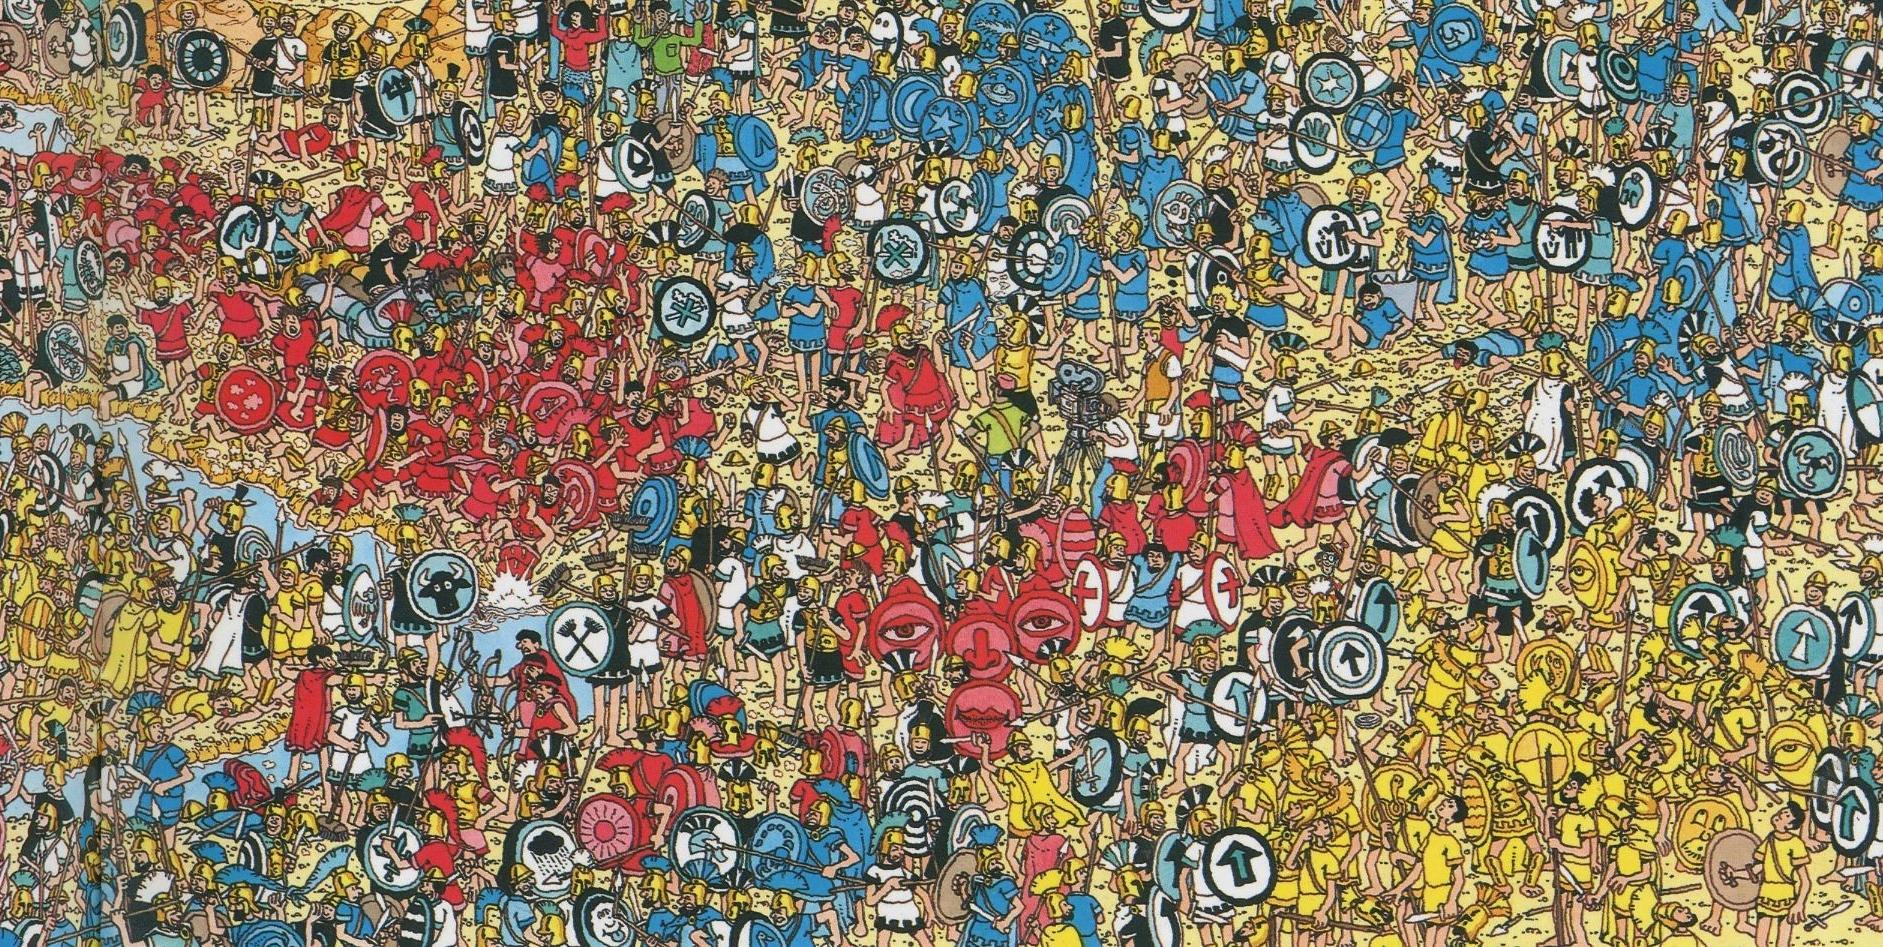waldos: (1314, 534, 1354, 602)
